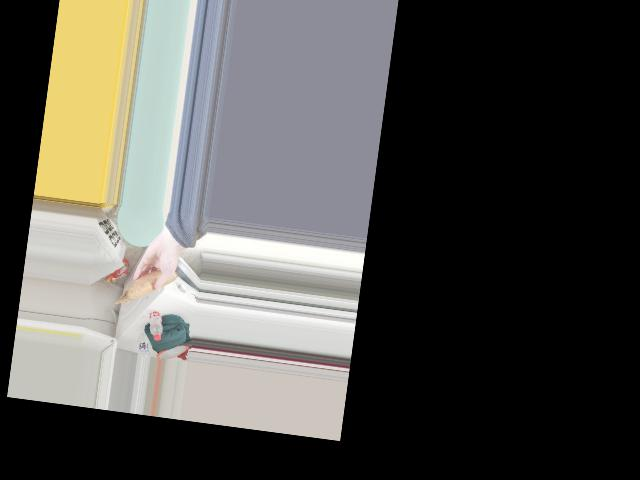sweet_potato: (136, 261, 176, 297)
